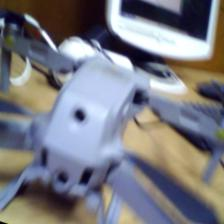drone: (0, 11, 224, 224)
